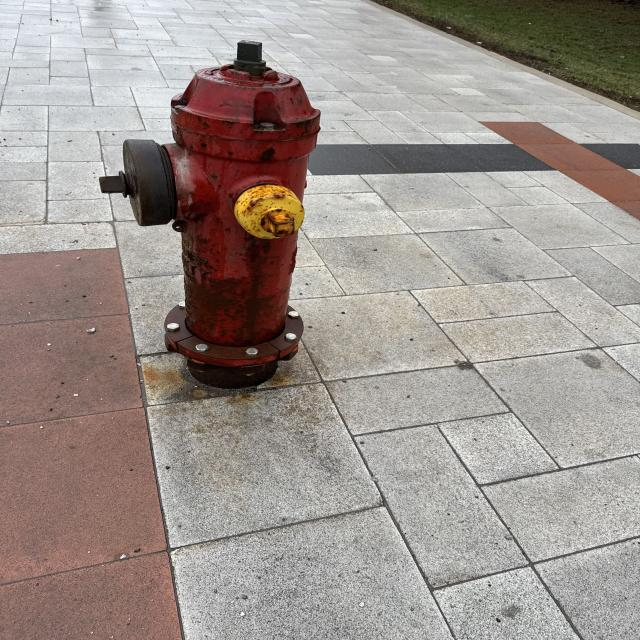Fire hydrant: (97, 40, 323, 388)
